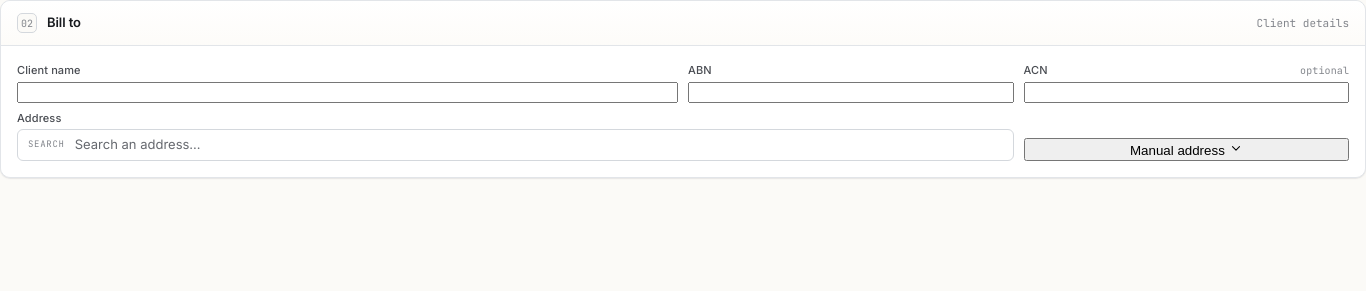
ClientDetailsForm › edits the address by hand
The image size is (1366, 291).
Click the button with aria-label "enter address manually". click: (1186,150)
box: 1024,138 -> 1349,161
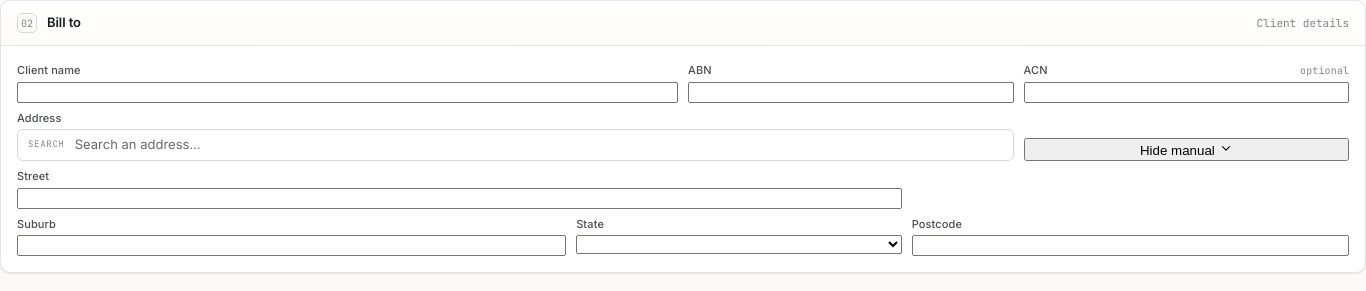
Type "1 Smith St" into the field labelled "Street". click: (459,198)
box: 17,188 -> 902,208
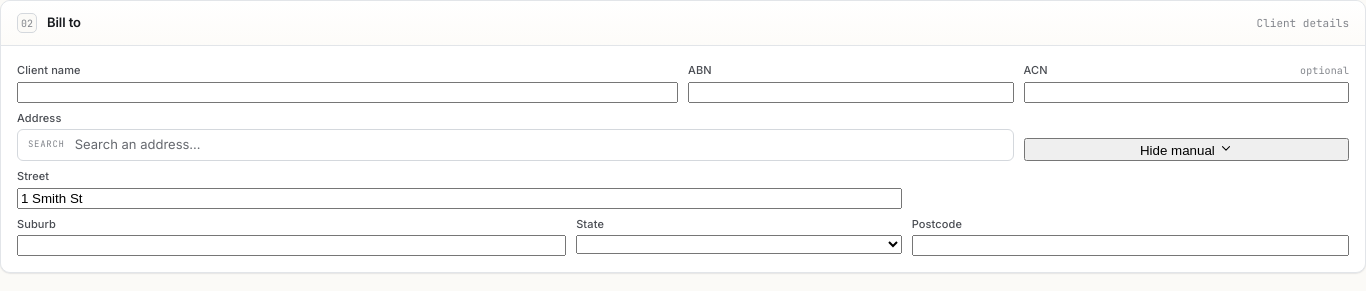
Select "WA" in the dropdown labelled "State". click: (739,244)
box: 576,235 -> 902,254
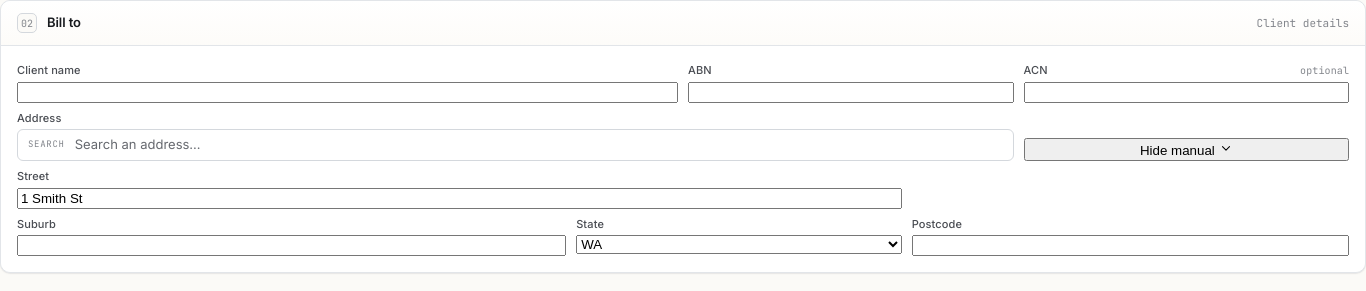
Type "6000x" into the field labelled "Postcode". click: (1130,246)
box: 912,235 -> 1349,256
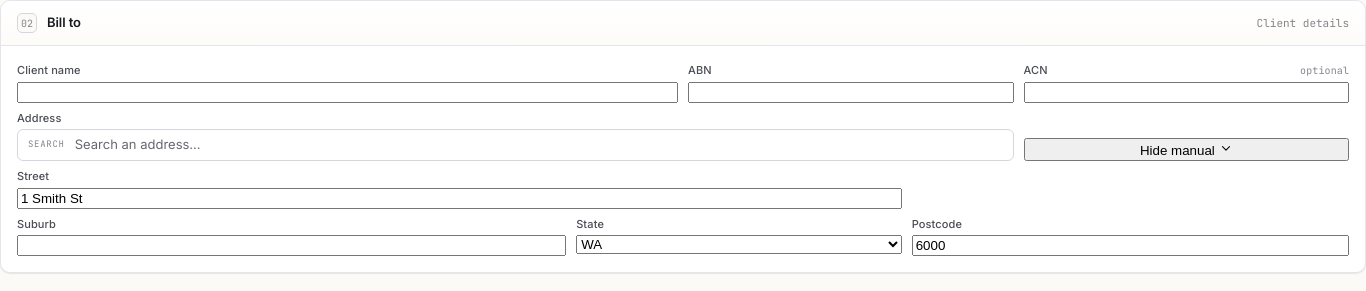
Expected: the field labelled "Postcode" holds "6000", 912,235 -> 1349,256
